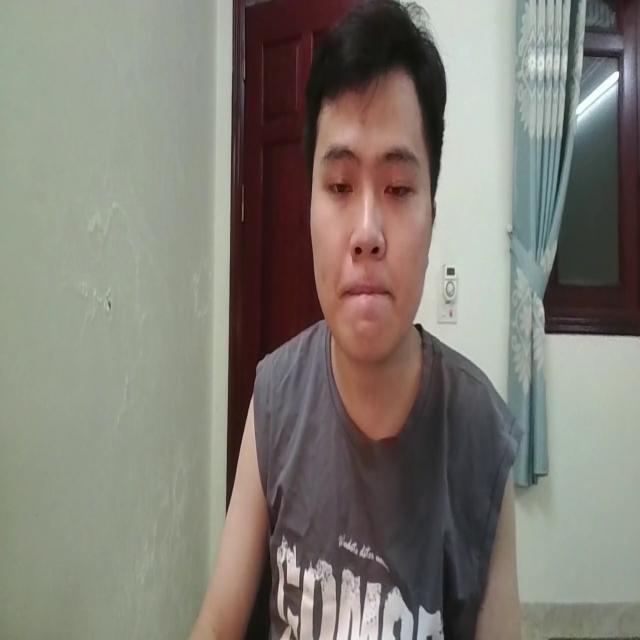student: (183, 2, 521, 640)
